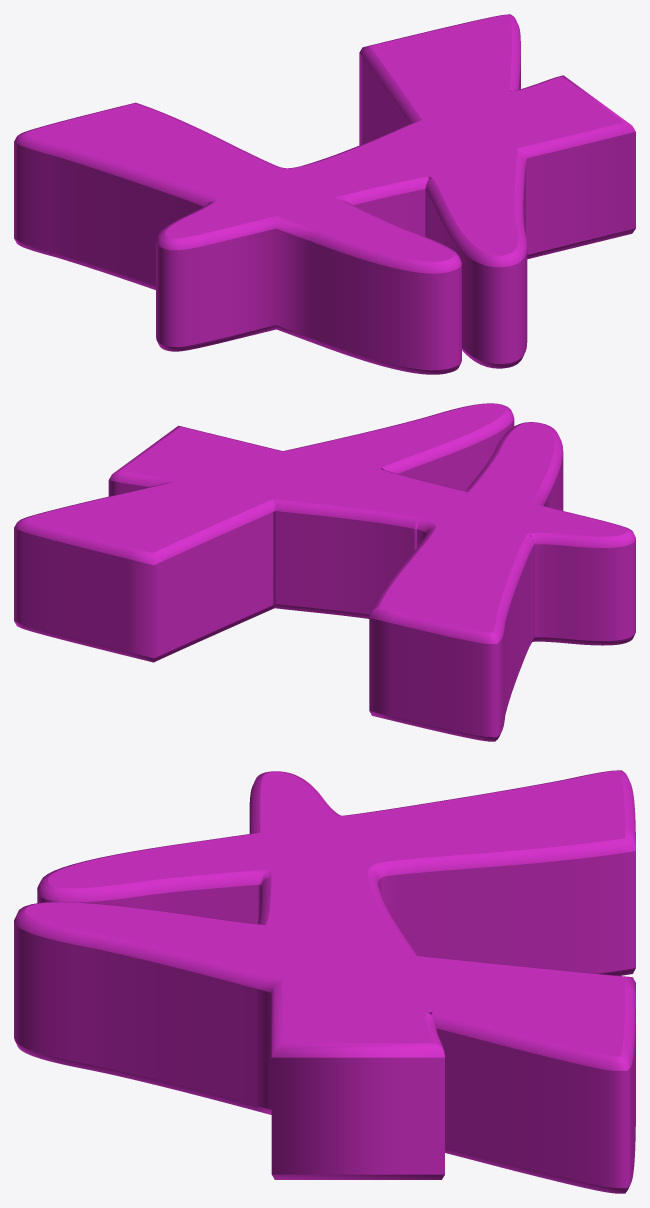
File: Letter_A.fbx
3 renders of one model, top to bottom at view 1: azimuth 30°, elevation 25°; view 2: azimuth 150°, elevation 25°; view 3: azimuth 270°, elevation 25°, orthographic. The views are drawn at different scales.
Visible parts, largest first — view 1: Letter_A; view 2: Letter_A; view 3: Letter_A.
Part boxes in pixels (x1=…): Letter_A: x1=14, y1=14, x2=635, y2=374; Letter_A: x1=14, y1=403, x2=635, y2=741; Letter_A: x1=14, y1=770, x2=635, y2=1193.
Bounding box in the file's own units: 0.6495 × 0.14 × 0.5782.
